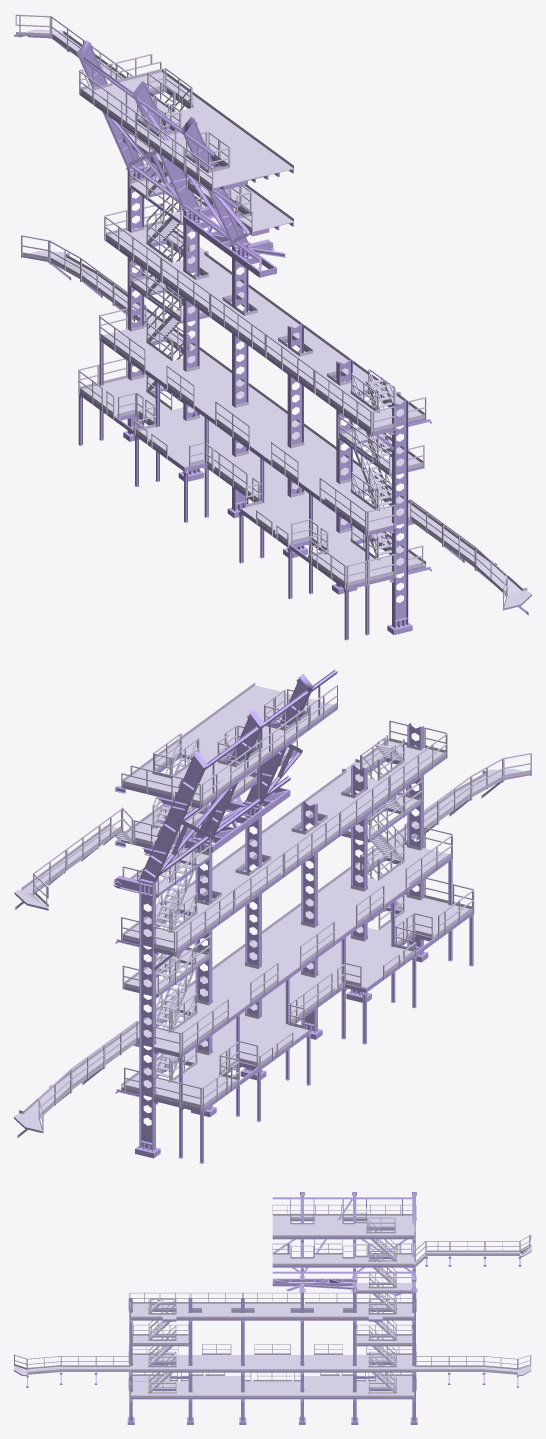
Rendered from HS-US-cut4.glb.
3 views of the same model, one above another, from view 1: azimuth 30°, elevation 25°; view 2: azimuth 150°, elevation 25°; view 3: azimuth 270°, elevation 25° (orthographic). The views are drawn at different scales.
Visible parts, largest first — view 1: _000001305BFF01F0_IndexedFaceSet, _000001305BFF4F60_IndexedFaceSet, _000001305BFF15A0_IndexedFaceSet; view 2: _000001305BFF01F0_IndexedFaceSet, _000001305BFF4F60_IndexedFaceSet, _000001305BFF15A0_IndexedFaceSet; view 3: _000001305BFF01F0_IndexedFaceSet, _000001305BFF15A0_IndexedFaceSet, _000001305BFF4F60_IndexedFaceSet.
Boxes of the visible parts, x1,y1,x2,y2 form: _000001305BFF01F0_IndexedFaceSet: (14, 29, 531, 608); _000001305BFF4F60_IndexedFaceSet: (14, 35, 531, 640); _000001305BFF15A0_IndexedFaceSet: (15, 14, 527, 610); _000001305BFF01F0_IndexedFaceSet: (14, 685, 530, 1138); _000001305BFF4F60_IndexedFaceSet: (14, 669, 530, 1163); _000001305BFF15A0_IndexedFaceSet: (19, 682, 531, 1133); _000001305BFF01F0_IndexedFaceSet: (14, 1215, 531, 1395); _000001305BFF15A0_IndexedFaceSet: (14, 1204, 531, 1398); _000001305BFF4F60_IndexedFaceSet: (14, 1192, 531, 1424).
Size of the model in its own units: 4.7 by 20.65 by 44.46.
